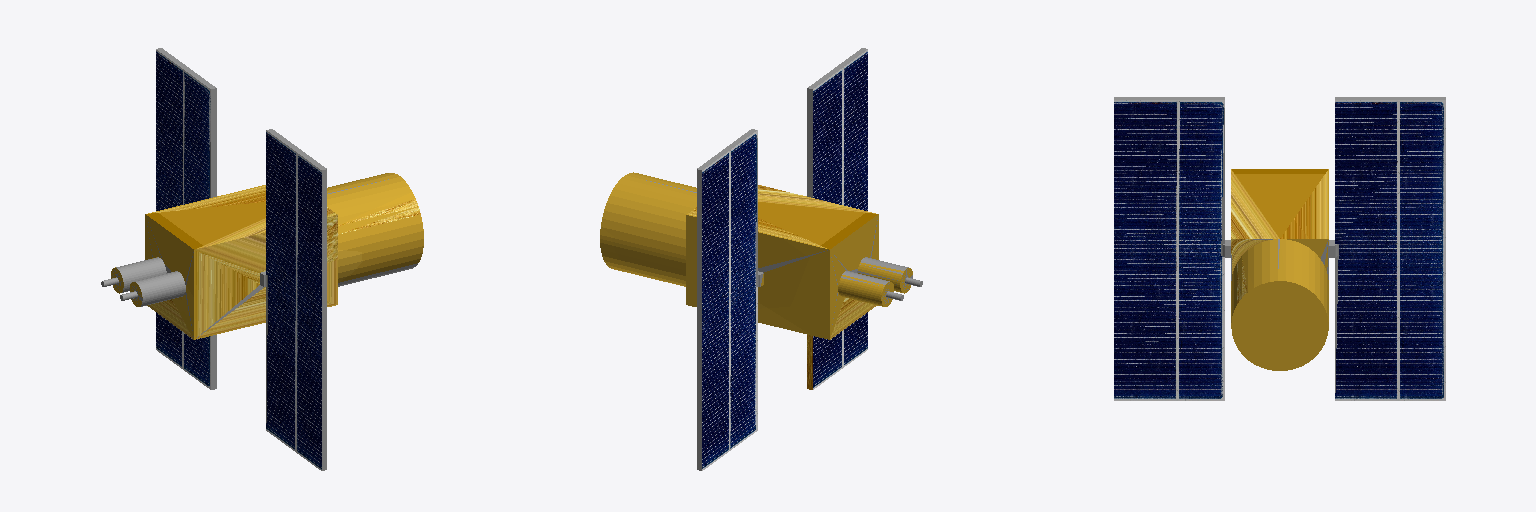
The picture shows the model from 3 angles: view 1: azimuth 30°, elevation 25°; view 2: azimuth 150°, elevation 25°; view 3: azimuth 270°, elevation 25°; orthographic projection.
Parts seen in each view (by area): view 1: <STL_BINARY>; view 2: <STL_BINARY>; view 3: <STL_BINARY>.
Part boxes in pixels (x1,y1,x2,y2): <STL_BINARY>: (101, 48, 423, 470); <STL_BINARY>: (600, 48, 922, 470); <STL_BINARY>: (1114, 97, 1445, 400).
Size of the model in its own units: 1 by 1 by 1.
Materials: 4 (2 with a texture image).